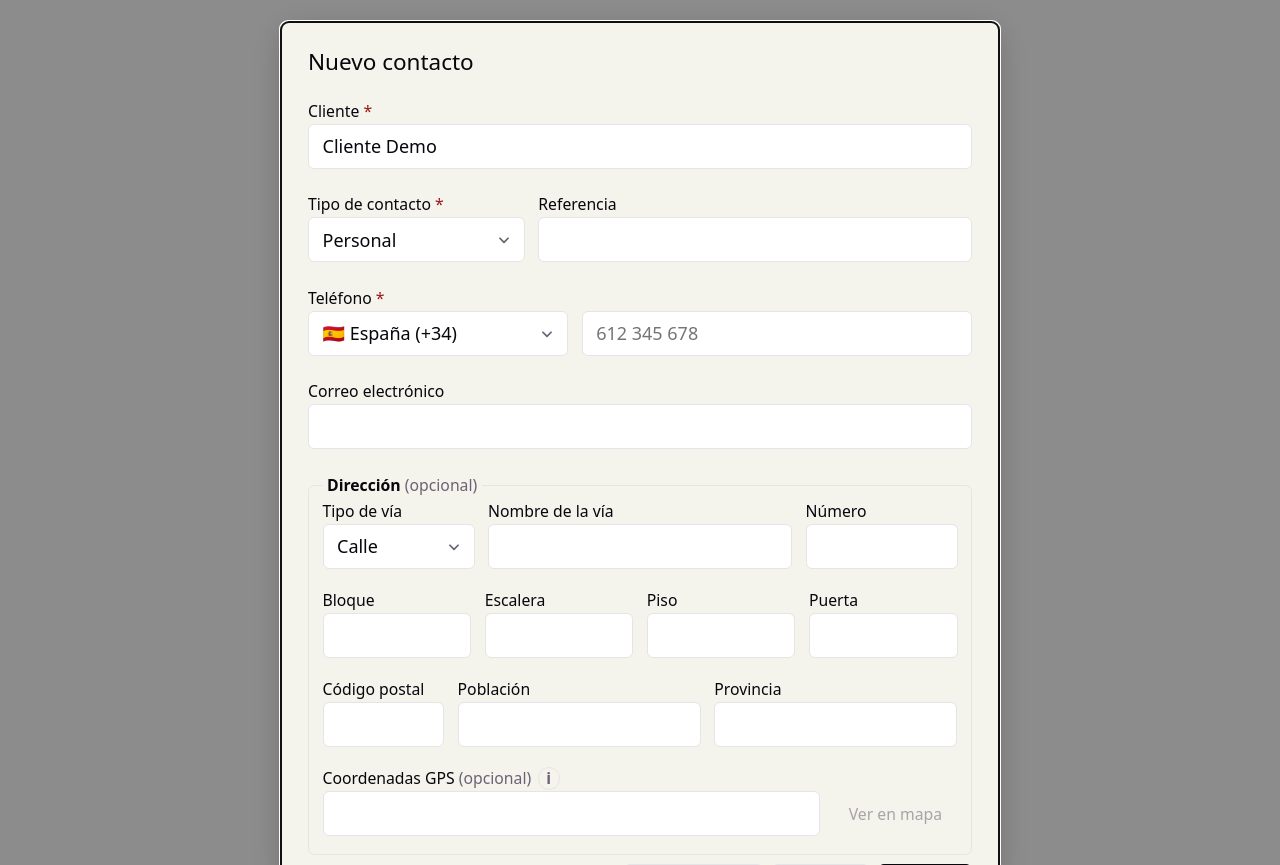
ContactFormModal field errors › shows phone validation under the phone field container on submit
Type "12345" into the field labelled "Teléfono *".
click(777, 333); type("12345")  # box [582, 311, 972, 356]
(page scrolled)
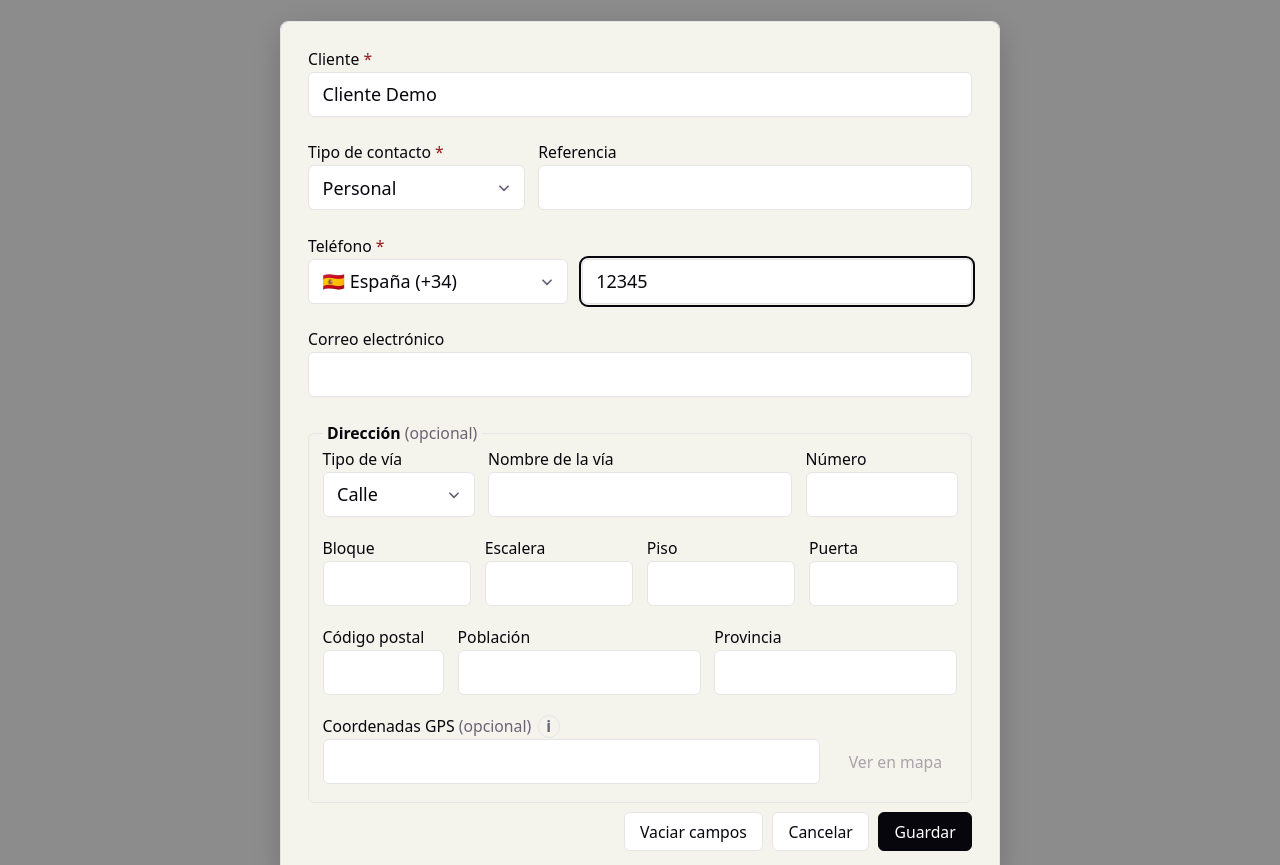
Click the button "Guardar".
click(925, 832)  # box [878, 812, 972, 851]
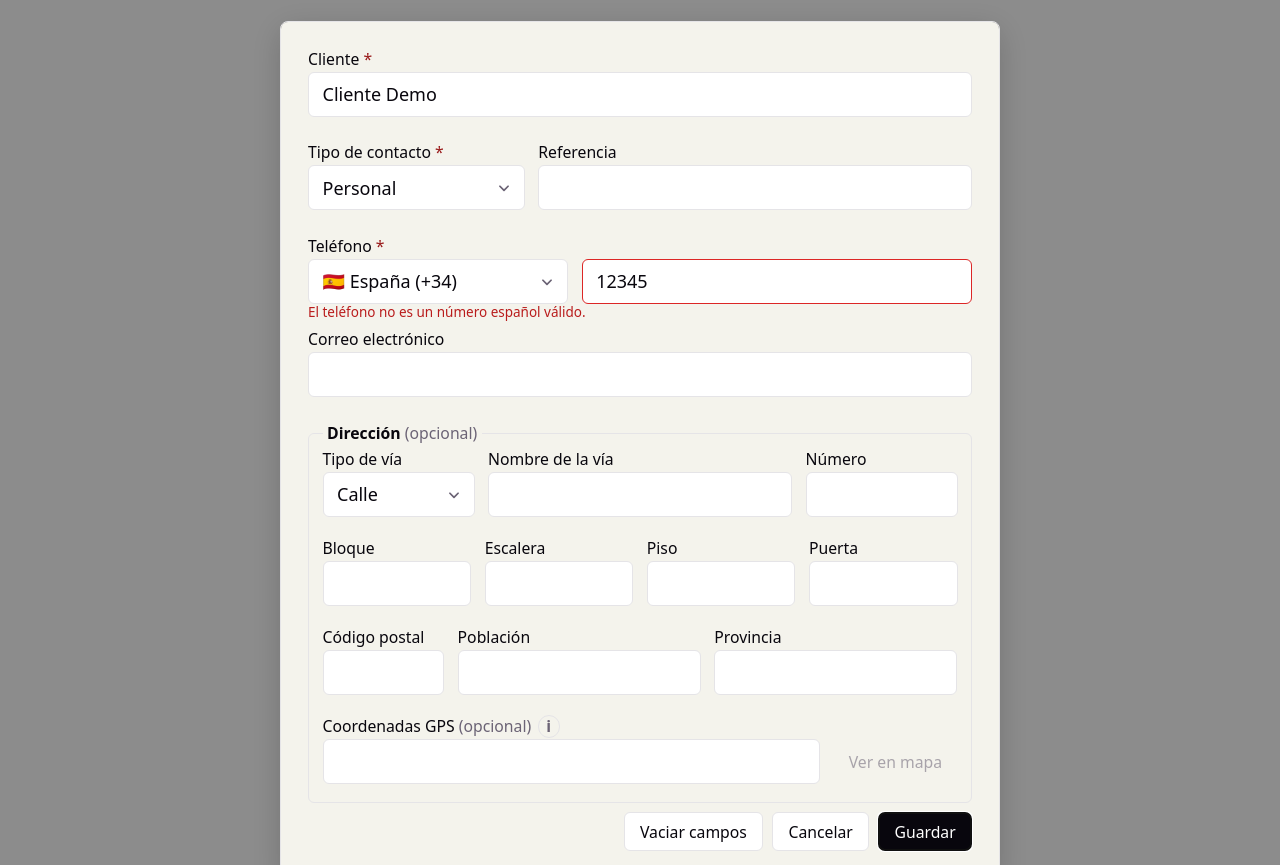
Expected: the element labelled "Teléfono * El teléfono no es un número español válido." is shown, [308, 233, 972, 322]
Now the text "El teléfono no es un número español válido." is shown, box [308, 303, 586, 321]
